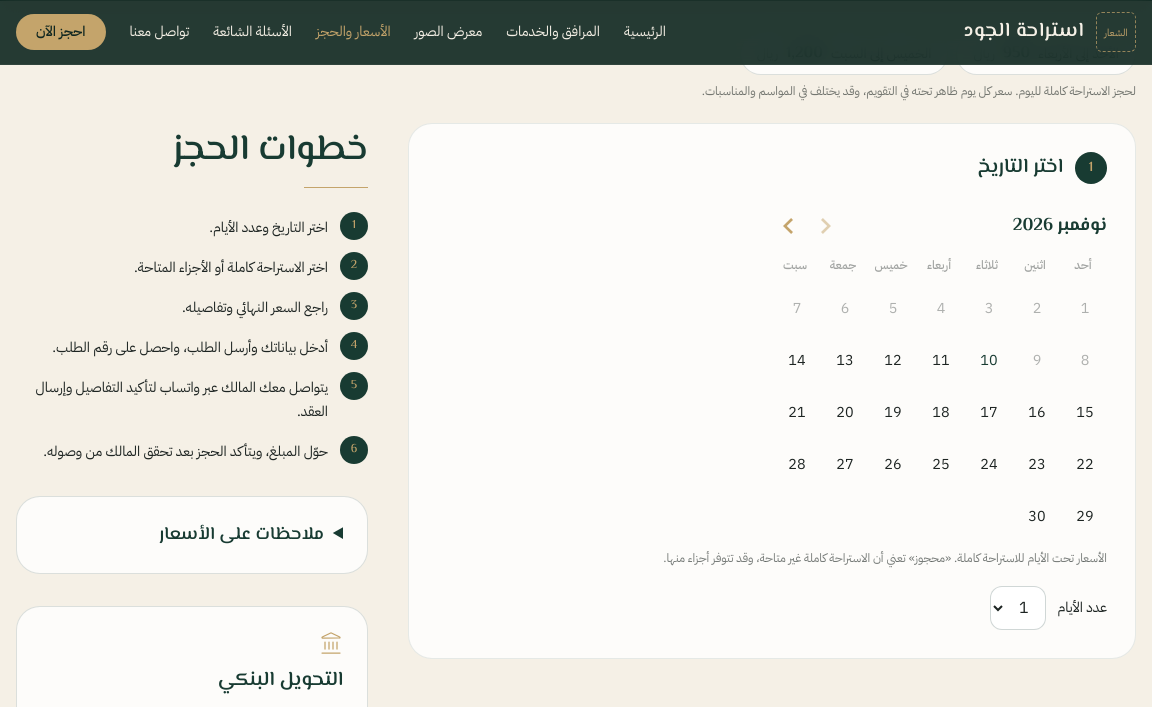
Scenario: booking form › does not show bank details anywhere before a request is sent
(page scrolled)
Click the button named "12 نوفمبر 2026" at (893, 360), box [871, 336, 915, 384]
(page scrolled)
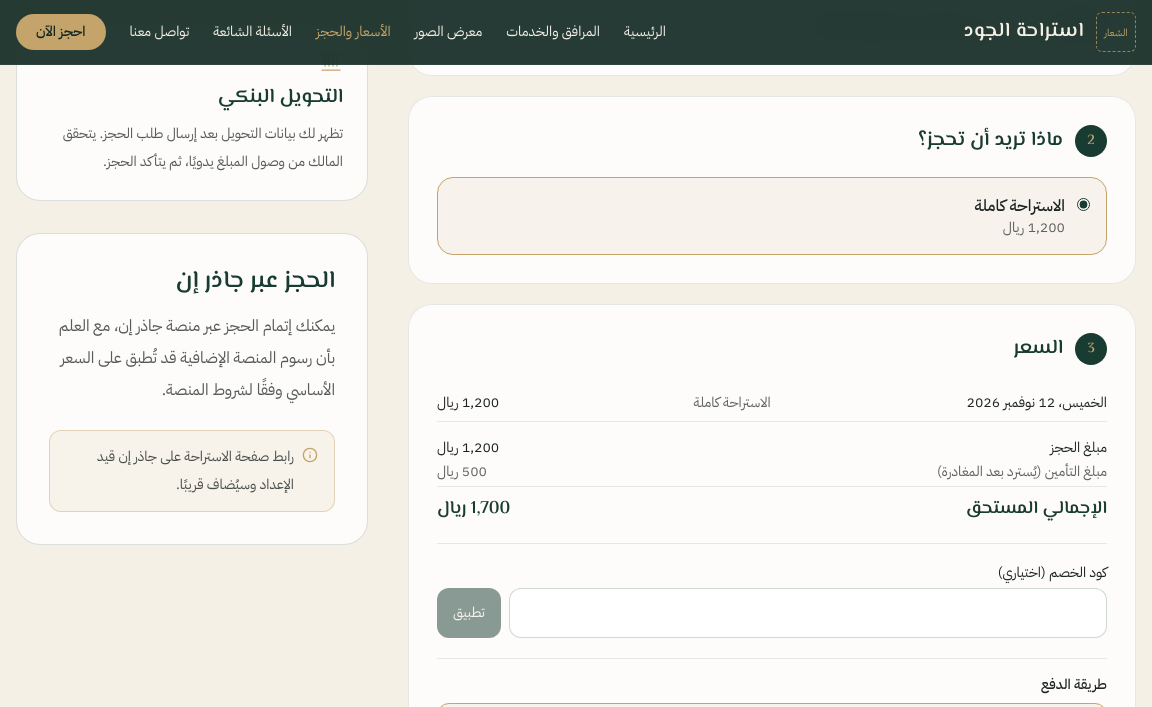
Result: the text "الإجمالي المستحق" is shown at [966, 495, 1107, 523]
